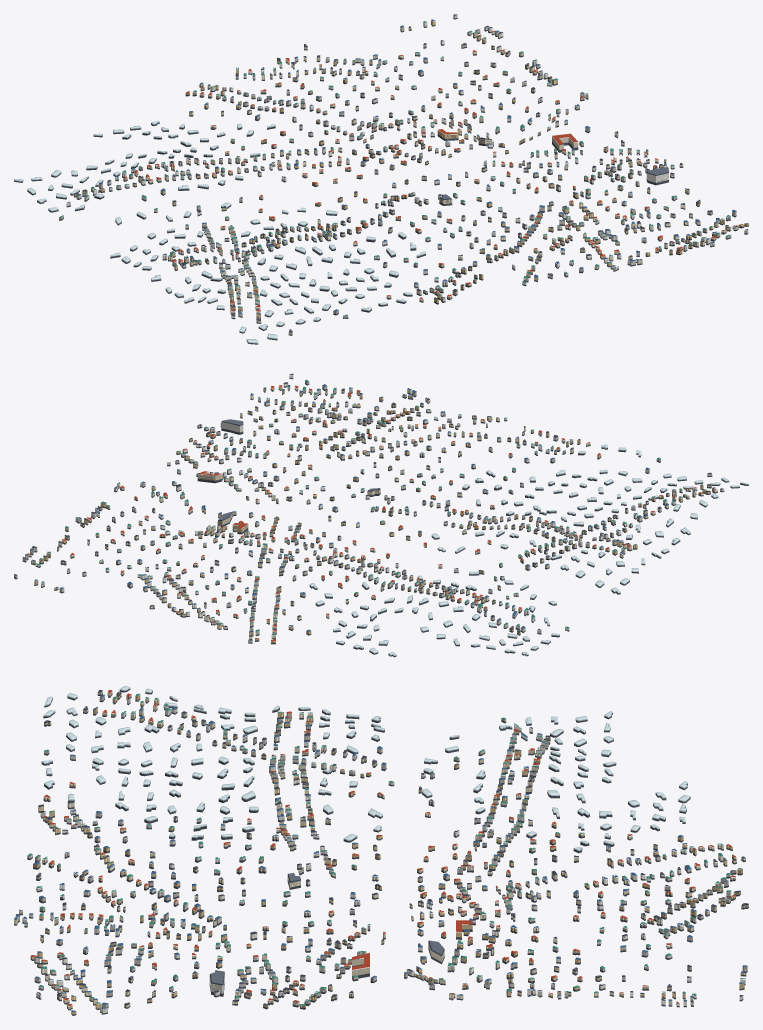
The model's file is osm_buildings_T_W01_N00.glb.
3 views of the same model, one above another, from view 1: azimuth 30°, elevation 25°; view 2: azimuth 150°, elevation 25°; view 3: azimuth 270°, elevation 25° (orthographic). The views are drawn at different scales.
Parts seen in each view (by area): view 1: OSM_T_W01_N00_foundation, OSM_T_W01_N00_greenhouse_blend, OSM_T_W01_N00_wall_cream_stucco, OSM_T_W01_N00_wall_french_ochre, OSM_T_W01_N00_wall_pastel_sand, OSM_T_W01_N00_wall_warm_white, OSM_T_W01_N00_roof_mansard_slate, OSM_T_W01_N00_roof_alpine_blue, OSM_T_W01_N00_roof_mint_metal, OSM_T_W01_N00_roof_terracotta; view 2: OSM_T_W01_N00_foundation, OSM_T_W01_N00_greenhouse_blend, OSM_T_W01_N00_wall_cream_stucco, OSM_T_W01_N00_wall_french_ochre, OSM_T_W01_N00_wall_pastel_sand, OSM_T_W01_N00_wall_warm_white, OSM_T_W01_N00_roof_mansard_slate, OSM_T_W01_N00_roof_alpine_blue, OSM_T_W01_N00_roof_mint_metal, OSM_T_W01_N00_roof_terracotta; view 3: OSM_T_W01_N00_foundation, OSM_T_W01_N00_greenhouse_blend, OSM_T_W01_N00_wall_cream_stucco, OSM_T_W01_N00_wall_french_ochre, OSM_T_W01_N00_wall_pastel_sand, OSM_T_W01_N00_wall_warm_white, OSM_T_W01_N00_roof_mansard_slate, OSM_T_W01_N00_roof_alpine_blue, OSM_T_W01_N00_roof_mint_metal, OSM_T_W01_N00_roof_terracotta, OSM_T_W01_N00_roof_mansard_deck.
Boxes of the visible parts, bbox=[...] form: OSM_T_W01_N00_foundation: bbox=[14, 17, 748, 344]; OSM_T_W01_N00_greenhouse_blend: bbox=[14, 120, 425, 343]; OSM_T_W01_N00_wall_cream_stucco: bbox=[59, 44, 738, 334]; OSM_T_W01_N00_wall_french_ochre: bbox=[74, 20, 748, 318]; OSM_T_W01_N00_wall_pastel_sand: bbox=[82, 26, 731, 317]; OSM_T_W01_N00_wall_warm_white: bbox=[66, 15, 748, 317]; OSM_T_W01_N00_roof_mansard_slate: bbox=[67, 14, 747, 332]; OSM_T_W01_N00_roof_alpine_blue: bbox=[77, 19, 748, 314]; OSM_T_W01_N00_roof_mint_metal: bbox=[59, 21, 730, 315]; OSM_T_W01_N00_roof_terracotta: bbox=[100, 30, 743, 311]; OSM_T_W01_N00_foundation: bbox=[14, 378, 748, 657]; OSM_T_W01_N00_greenhouse_blend: bbox=[309, 444, 748, 656]; OSM_T_W01_N00_wall_cream_stucco: bbox=[60, 386, 717, 642]; OSM_T_W01_N00_wall_french_ochre: bbox=[34, 387, 710, 642]; OSM_T_W01_N00_wall_pastel_sand: bbox=[22, 381, 715, 630]; OSM_T_W01_N00_wall_warm_white: bbox=[14, 375, 724, 634]; OSM_T_W01_N00_roof_mansard_slate: bbox=[14, 373, 723, 637]; OSM_T_W01_N00_roof_alpine_blue: bbox=[25, 384, 715, 640]; OSM_T_W01_N00_roof_mint_metal: bbox=[36, 379, 706, 635]; OSM_T_W01_N00_roof_terracotta: bbox=[27, 385, 716, 641]; OSM_T_W01_N00_foundation: bbox=[14, 688, 748, 1015]; OSM_T_W01_N00_greenhouse_blend: bbox=[41, 686, 690, 851]; OSM_T_W01_N00_wall_cream_stucco: bbox=[14, 691, 748, 1007]; OSM_T_W01_N00_wall_french_ochre: bbox=[30, 693, 746, 1014]; OSM_T_W01_N00_wall_pastel_sand: bbox=[15, 695, 747, 1011]; OSM_T_W01_N00_wall_warm_white: bbox=[24, 691, 745, 1013]; OSM_T_W01_N00_roof_mansard_slate: bbox=[19, 690, 748, 1005]; OSM_T_W01_N00_roof_alpine_blue: bbox=[14, 694, 747, 1012]; OSM_T_W01_N00_roof_mint_metal: bbox=[27, 693, 745, 1007]; OSM_T_W01_N00_roof_terracotta: bbox=[31, 690, 735, 1006]; OSM_T_W01_N00_roof_mansard_deck: bbox=[37, 691, 747, 1003].
Size of the model in its own units: 1895 by 148 by 1964.
